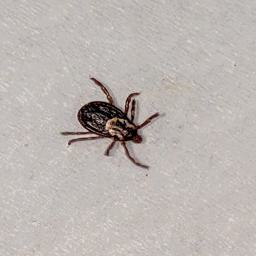Dermacentor variabilis: (60, 77, 164, 171)
